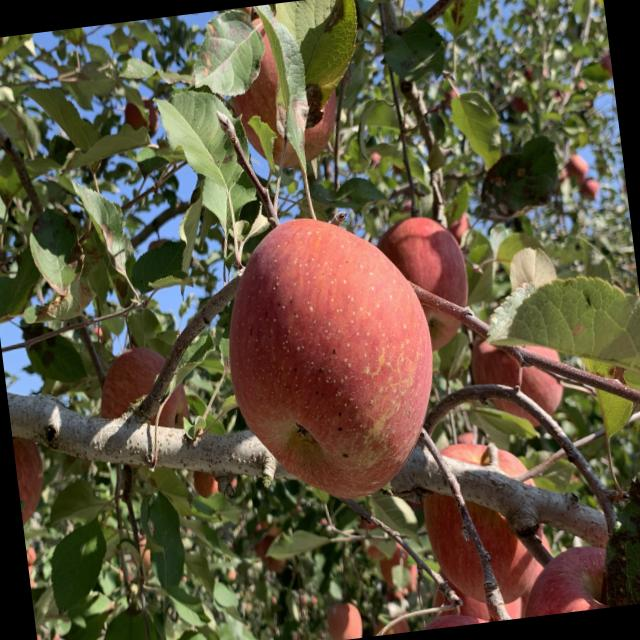fresh: (207, 197, 459, 524)
